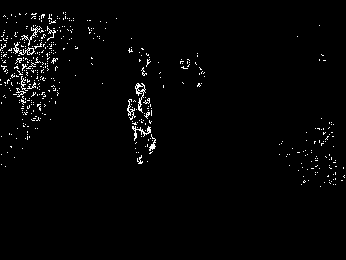person: (127, 84, 157, 166)
